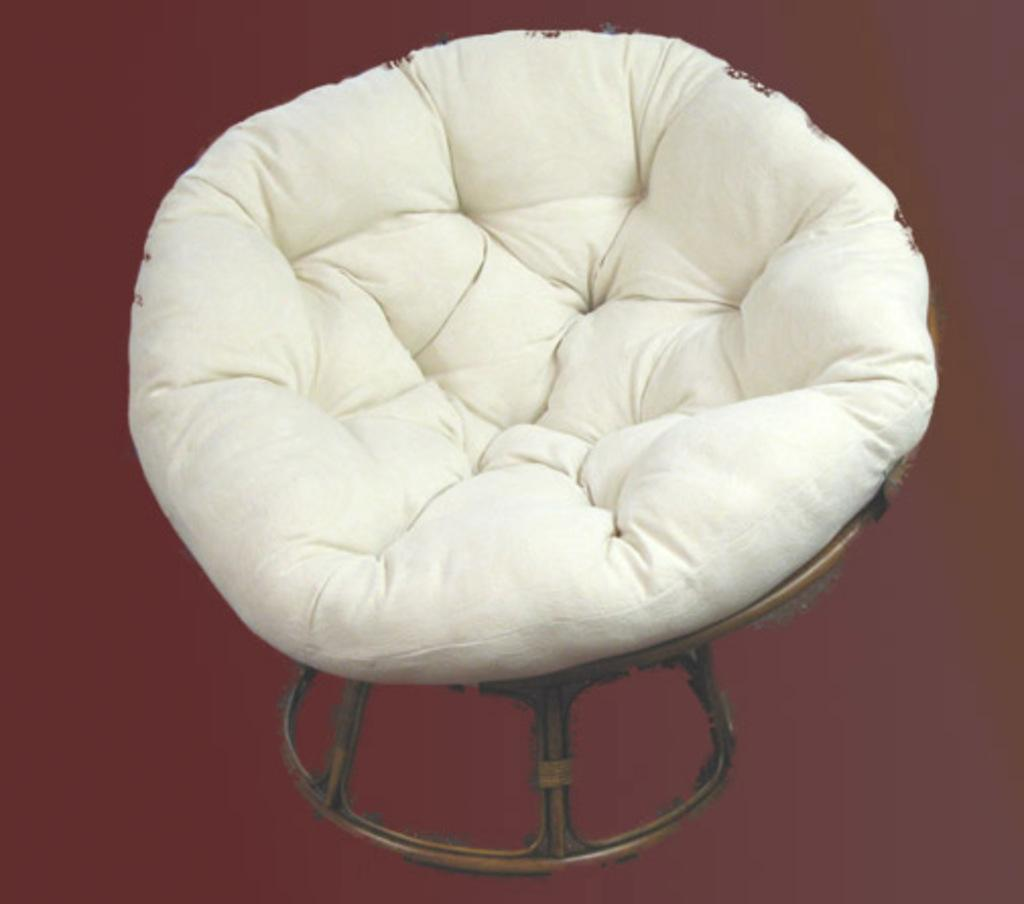Chair: (142, 0, 965, 900)
